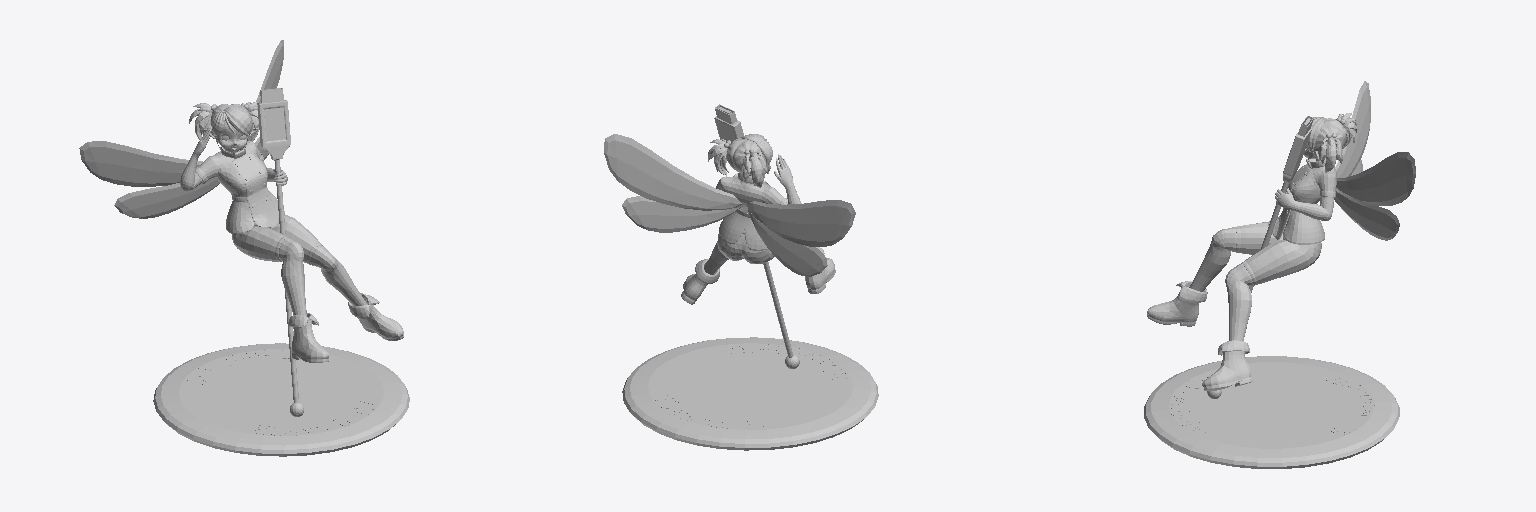
File: anime1.4.obj
The picture shows the model from 3 angles: view 1: azimuth 30°, elevation 25°; view 2: azimuth 150°, elevation 25°; view 3: azimuth 270°, elevation 25°; orthographic projection.
Parts seen in each view (by area): view 1: Generic.001; view 2: Generic.001; view 3: Generic.001.
Boxes of the visible parts, x1=… form: Generic.001: x1=79, y1=40, x2=409, y2=456; Generic.001: x1=604, y1=104, x2=878, y2=450; Generic.001: x1=1144, y1=81, x2=1415, y2=468.
Bounding box in the file's own units: 11.25 × 12.2 × 10.02.